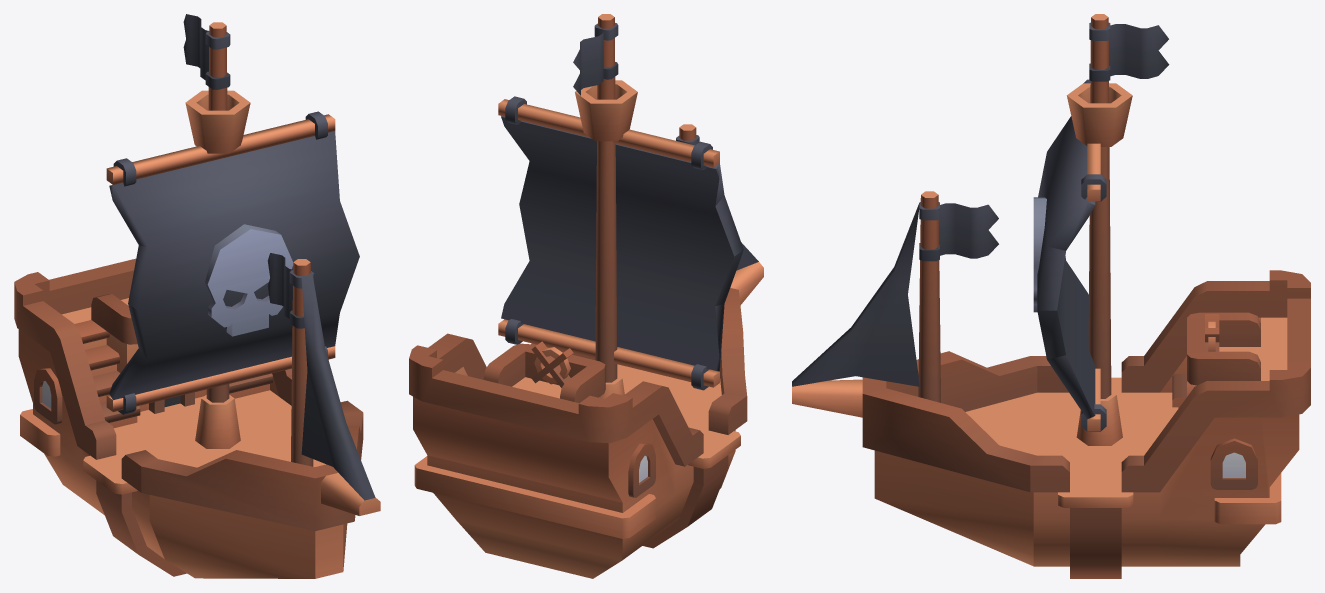
File: ship-pirate-small.glb
3 renders of one model, left to right at view 1: azimuth 30°, elevation 25°; view 2: azimuth 150°, elevation 25°; view 3: azimuth 270°, elevation 25°, orthographic. The views are drawn at different scales.
Visible parts, largest first — view 1: ship-pirate-small; view 2: ship-pirate-small; view 3: ship-pirate-small.
Part boxes in pixels (box(x1,y1,x2,y2)): ship-pirate-small: box(14, 14, 380, 578); ship-pirate-small: box(409, 14, 763, 578); ship-pirate-small: box(792, 14, 1310, 578).
Size of the model in its own units: 4.8 by 9.96 by 8.8.
Materials: 1 (1 with a texture image).
